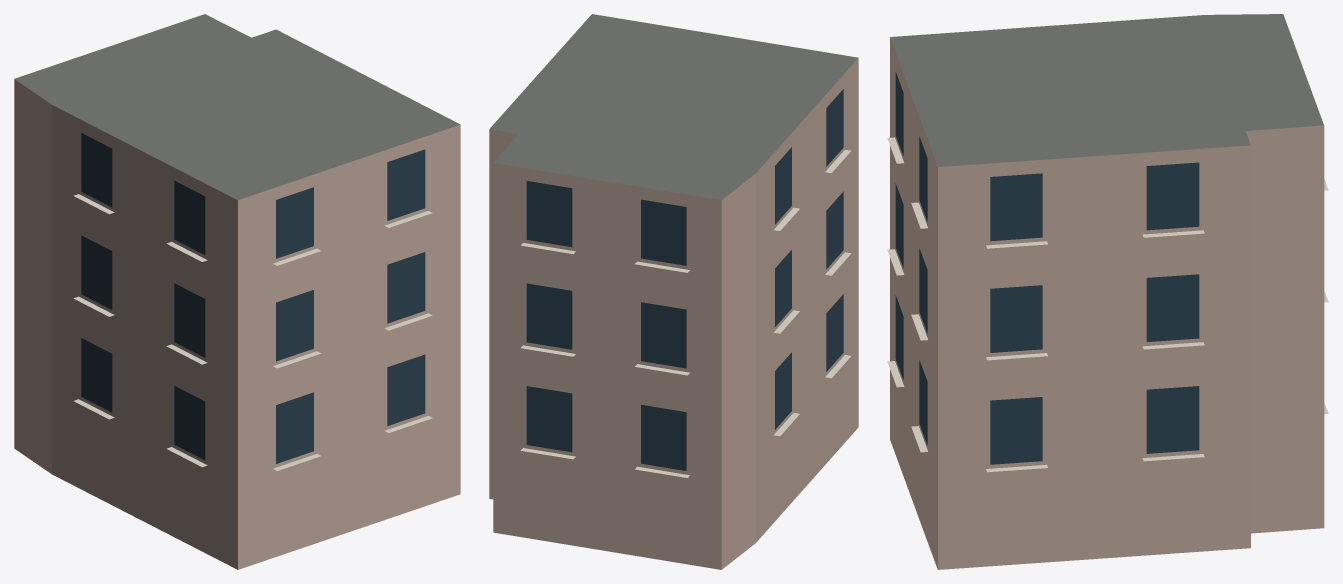
3 renders of one model, left to right at view 1: azimuth 30°, elevation 25°; view 2: azimuth 150°, elevation 25°; view 3: azimuth 270°, elevation 25°, orthographic. The views are drawn at different scales.
Parts seen in each view (by area): view 1: Footprint 0, Inferred window bays, Window sills; view 2: Footprint 0, Inferred window bays, Window sills; view 3: Footprint 0, Inferred window bays, Window sills.
Part boxes in pixels (x1,y1,x2,y2): Footprint 0: (14, 14, 460, 569); Inferred window bays: (81, 133, 425, 463); Window sills: (73, 194, 432, 470); Footprint 0: (489, 14, 858, 569); Inferred window bays: (526, 89, 843, 470); Window sills: (521, 149, 851, 477); Footprint 0: (890, 14, 1324, 569); Inferred window bays: (895, 72, 1199, 464); Window sills: (887, 137, 1328, 472).
Bounding box in the file's own units: 8.48 × 10.34 × 10.27.
